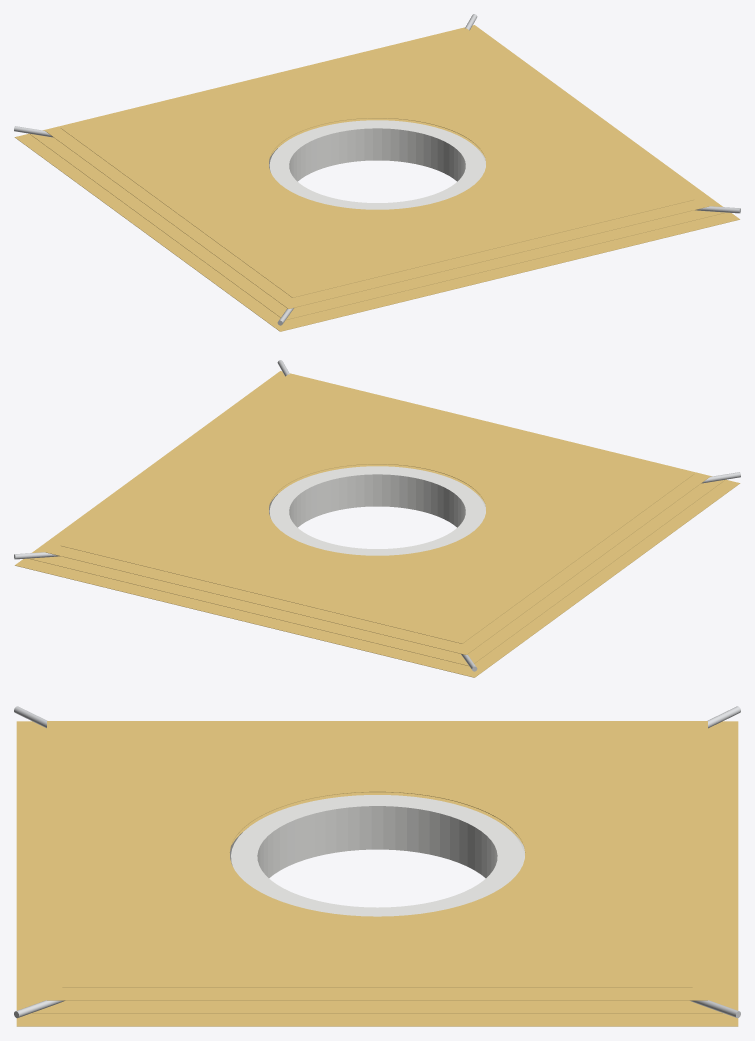
Rendered from ax_util_30_sunshade_m_deployed.glb.
3 renders of one model, top to bottom at view 1: azimuth 30°, elevation 25°; view 2: azimuth 150°, elevation 25°; view 3: azimuth 270°, elevation 25°, orthographic. The views are drawn at different scales.
Parts seen in each view (by area): view 1: membrane_layers, canister_ring, booms; view 2: membrane_layers, canister_ring, booms; view 3: membrane_layers, canister_ring, booms.
Part boxes in pixels (x1,y1,x2,y2): membrane_layers: (14,25,739,331); canister_ring: (269,120,485,209); booms: (14,14,740,325); membrane_layers: (15,371,740,677); canister_ring: (269,466,485,555); booms: (14,360,740,671); membrane_layers: (16,721,738,1026); canister_ring: (230,795,524,916); booms: (14,706,740,1018).
Bounding box in the file's own units: 6.05 × 0.424 × 6.05.
